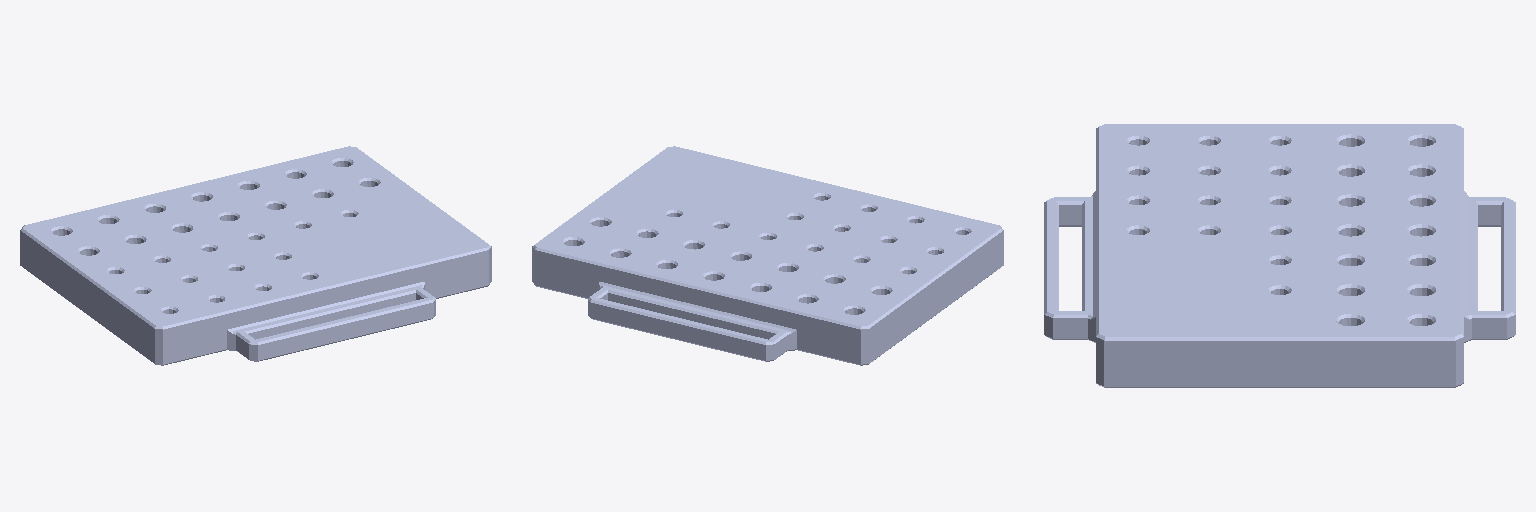
URDF robot description (pin_holder.SLDPRT):
<?xml version="1.0" encoding="utf-8"?>
<!-- This URDF was automatically created by SolidWorks to URDF Exporter! Originally created by [author] ([email redacted]) 
     Commit Version: 1.5.1-0-g916b5db  Build Version: 1.5.7152.31018
     For more information, please see http://wiki.ros.org/sw_urdf_exporter -->
<robot
  name="pin_holder.SLDPRT">
  <link
    name="pin_holder.SLDPRT">
    <inertial>
      <origin
        xyz="0.00027071 -0.000426169999999999 0.0096375"
        rpy="0 0 0" />
      <mass
        value="0.47527" />
      <inertia
        ixx="0.00077064"
        ixy="7.0966E-07"
        ixz="3.8049E-06"
        iyy="0.0012629"
        iyz="1.10569999999995E-06"
        izz="0.0020021" />
    </inertial>
    <visual>
      <origin
        xyz="0 0 0"
        rpy="0 0 0" />
      <geometry>
        <mesh
          filename="package://env_setting/meshes/pin_holder.SLDPRT.STL" />
      </geometry>
      <material
        name="">
        <color
          rgba="0.79216 0.81961 0.93333 1" />
        <texture
          filename="package://env_setting/textures/" />
      </material>
    </visual>
    <collision>
      <origin
        xyz="0 0 0"
        rpy="0 0 0" />
      <geometry>
        <mesh
          filename="package://env_setting/meshes/pin_holder.SLDPRT.STL" />
      </geometry>
    </collision>
  </link>
  <gazebo reference="pin_holder.SLDPRT">
    <kp>1000000.0</kp>
    <kd>1.0</kd>
    <mu1>100000</mu1>
    <mu2>100000</mu2>
    <maxVel>0</maxVel>
    <minDepth>0.0001</minDepth>
  </gazebo>
</robot>

--- What the picture shows (computed from the rendered views, not written in the file) ---
3 views of the same robot in one strip: view 1: azimuth 30°, elevation 25°; view 2: azimuth 150°, elevation 25°; view 3: azimuth 270°, elevation 25° (orthographic).
Model pin_holder.SLDPRT with 1 links and 0 joints (none), rooted at pin_holder.SLDPRT, posed every joint at zero.
Links seen in each view (by area): view 1: pin_holder.SLDPRT; view 2: pin_holder.SLDPRT; view 3: pin_holder.SLDPRT.
Link boxes in pixels (x1,y1,x2,y2): pin_holder.SLDPRT: (20, 146, 491, 365); pin_holder.SLDPRT: (532, 146, 1003, 365); pin_holder.SLDPRT: (1044, 124, 1515, 387).
Size in the robot's own frame: 0.18 by 0.1664 by 0.02 metres.
1 mesh visuals loaded from 1 distinct referenced files (1 binary STL).